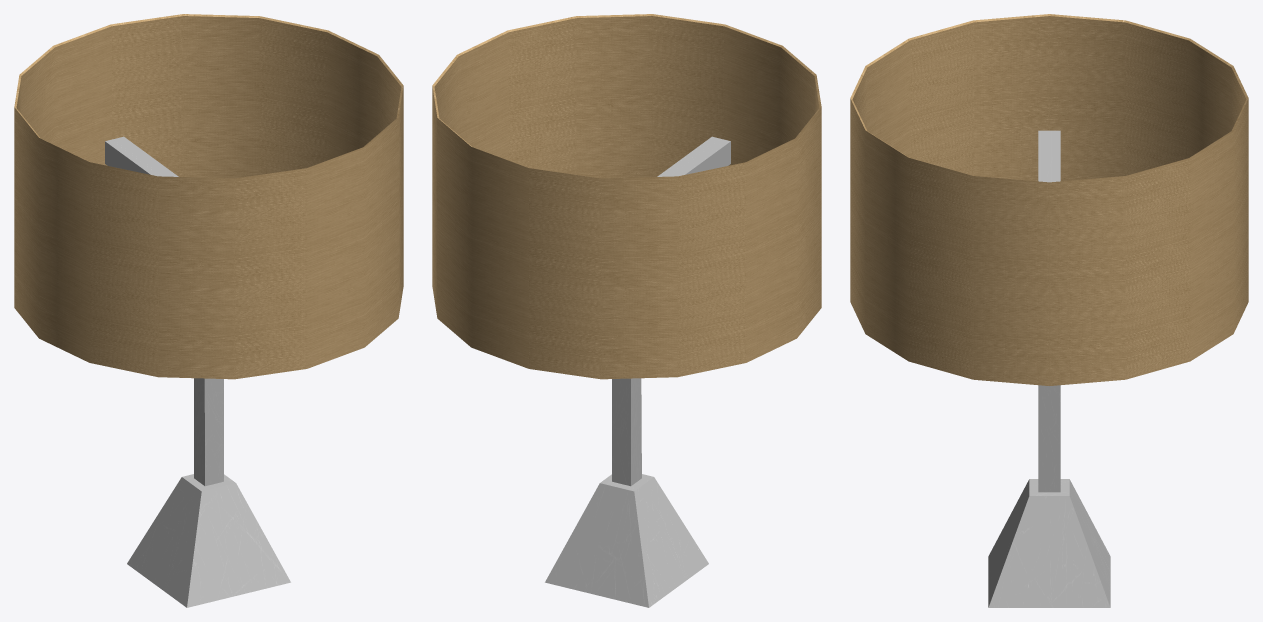
File: Lamp.fbx
3 renders of one model, left to right at view 1: azimuth 30°, elevation 25°; view 2: azimuth 150°, elevation 25°; view 3: azimuth 270°, elevation 25°, orthographic.
Visible parts, largest first — view 1: pCube5; view 2: pCube5; view 3: pCube5.
Part boxes in pixels (<box>): pCube5: <box>14,14,403,607</box>; pCube5: <box>432,14,821,607</box>; pCube5: <box>850,14,1248,607</box>.
Bounding box in the file's own units: 0.3766 × 0.5047 × 0.3766.
